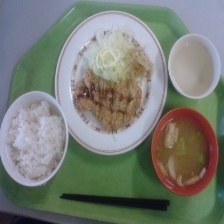rice: (3, 99, 67, 182)
